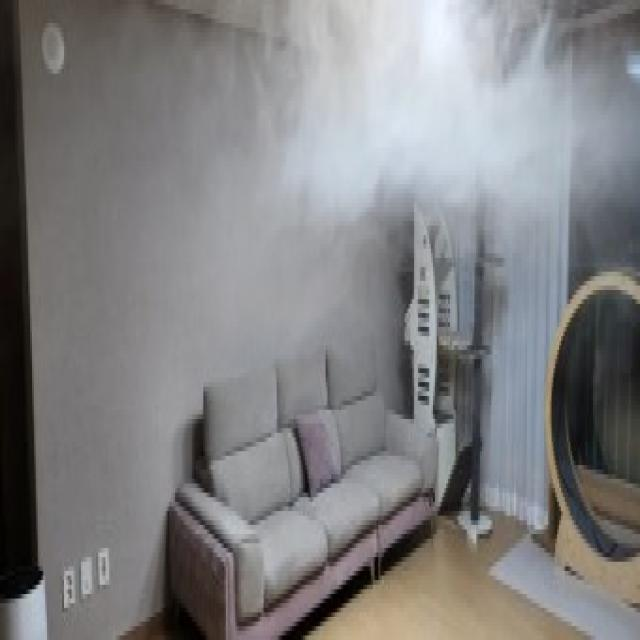Sofa: (159, 353, 443, 628)
